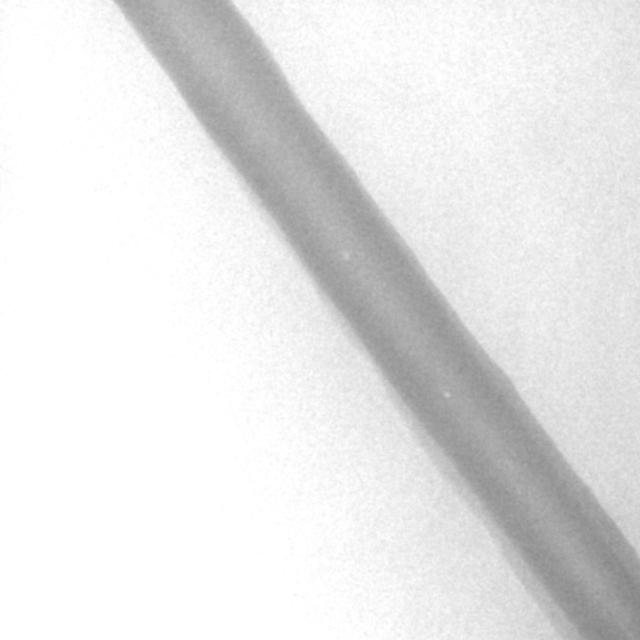air-hole: (443, 389, 455, 400), (342, 251, 352, 263)
